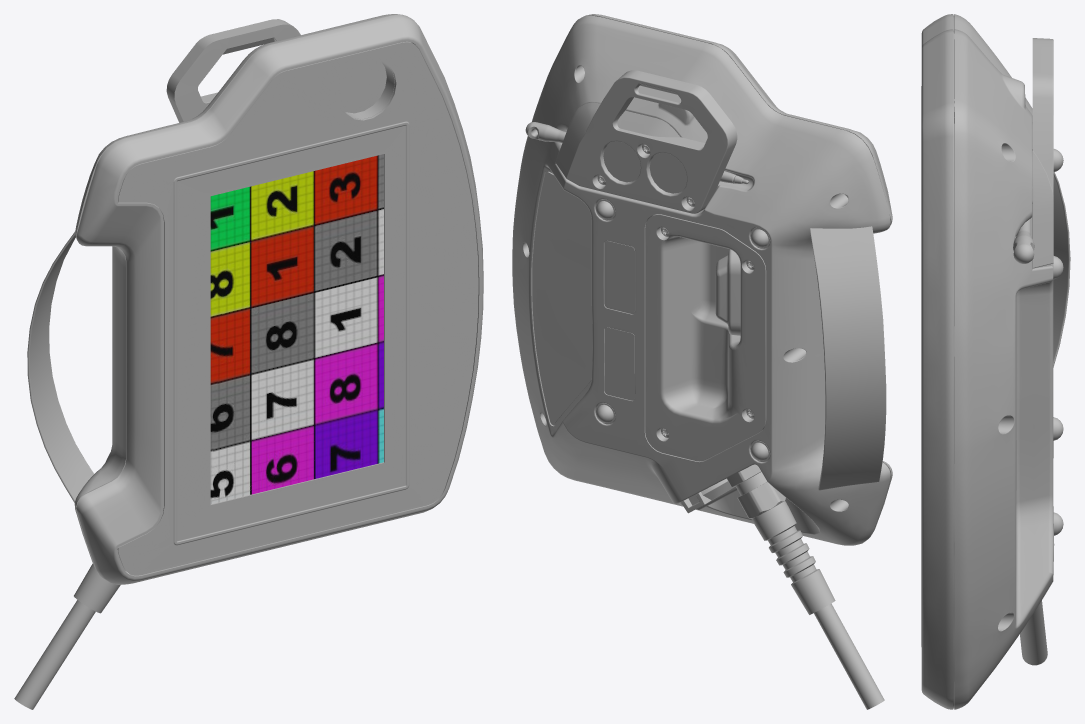
Rendered from T70 with Textures.glb.
The picture shows the model from 3 angles, left to right: view 1: azimuth 30°, elevation 25°; view 2: azimuth 150°, elevation 25°; view 3: azimuth 270°, elevation 25°; orthographic projection. The views are drawn at different scales.
Parts seen in each view (by area): view 1: T70_Keyboard, T70_Base, T70_Screen; view 2: T70_Base; view 3: T70_Base, T70_Keyboard.
Part boxes in pixels (box(x1,y1,x2,y2)): T70_Keyboard: box(117, 41, 478, 575); T70_Base: box(14, 14, 483, 709); T70_Screen: box(210, 154, 383, 504); T70_Base: box(512, 14, 892, 709); T70_Base: box(921, 14, 1070, 709); T70_Keyboard: box(921, 86, 921, 646).
Bounding box in the file's own units: 0.2252 × 0.3196 × 0.0577.
3 materials, 1 textured.
